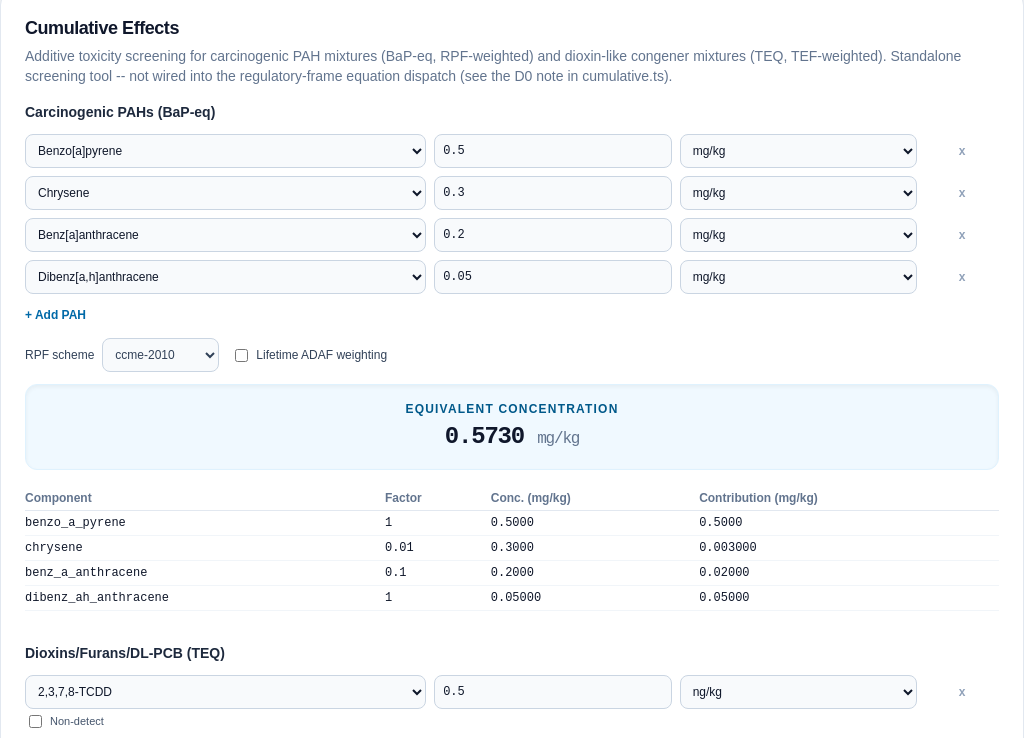
CumulativeEffectsCalculator › blocked path: emptying all TEQ congener rows blocks the result and withholds the total
Step 1. Click the button named "Remove congener row" → (962,692), box [925, 684, 999, 700]
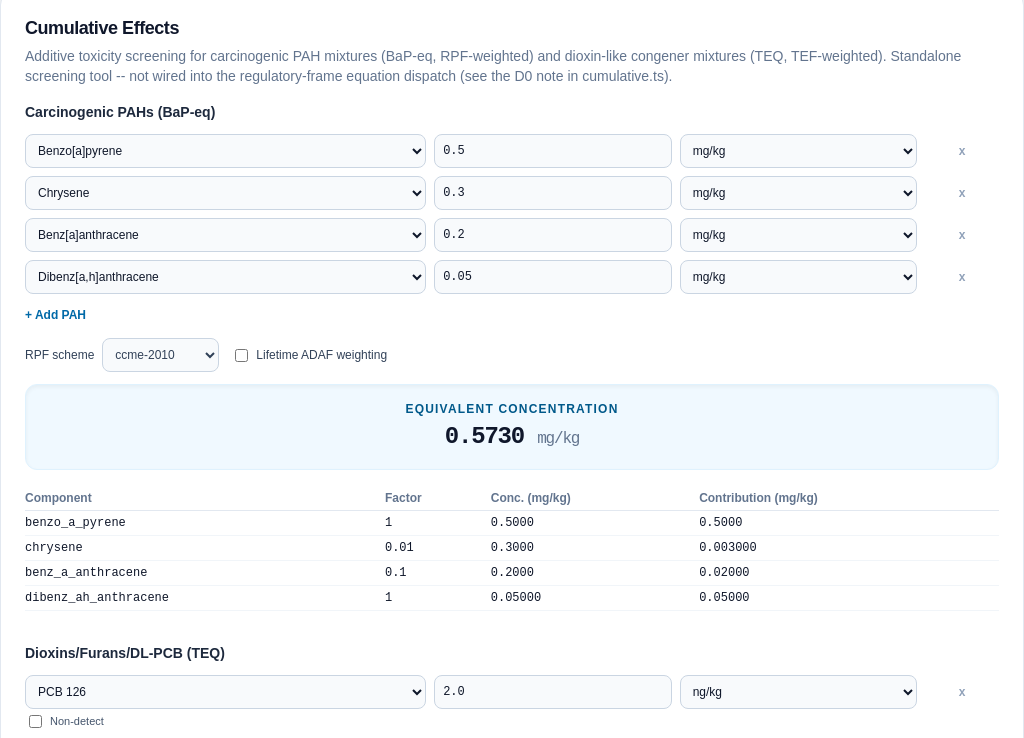
Step 2. Click the button named "Remove congener row" → (962,692), box [925, 684, 999, 700]
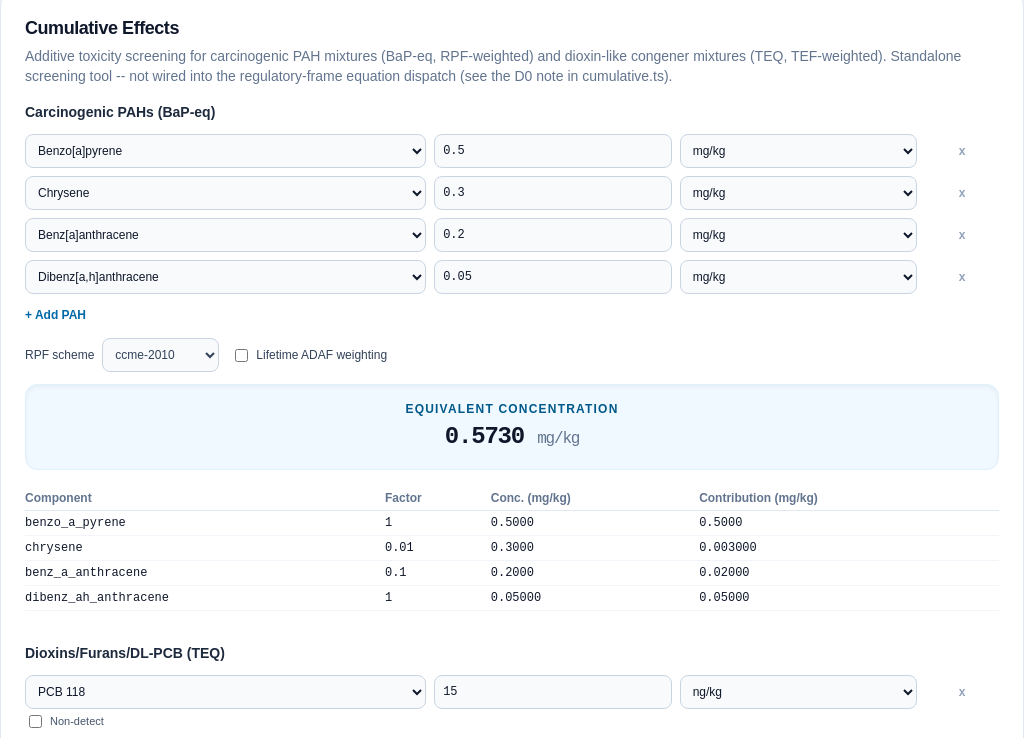
Step 3. Click the button named "Remove congener row" → (962,692), box [925, 684, 999, 700]
(page scrolled)
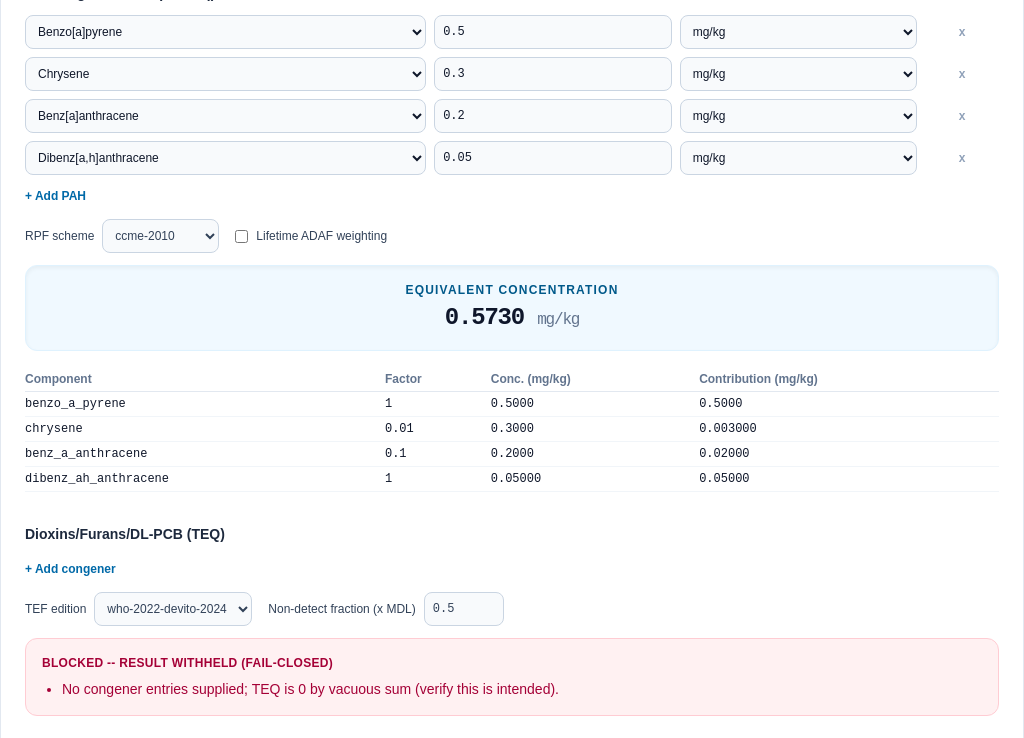
Now the message with test id "cum-teq-blocked" shows "No congener entries supplied", box [62, 681, 559, 697]
